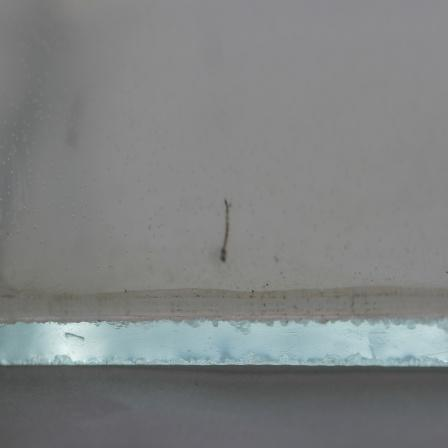Jentik-Nyamuk: (215, 193, 237, 268)
